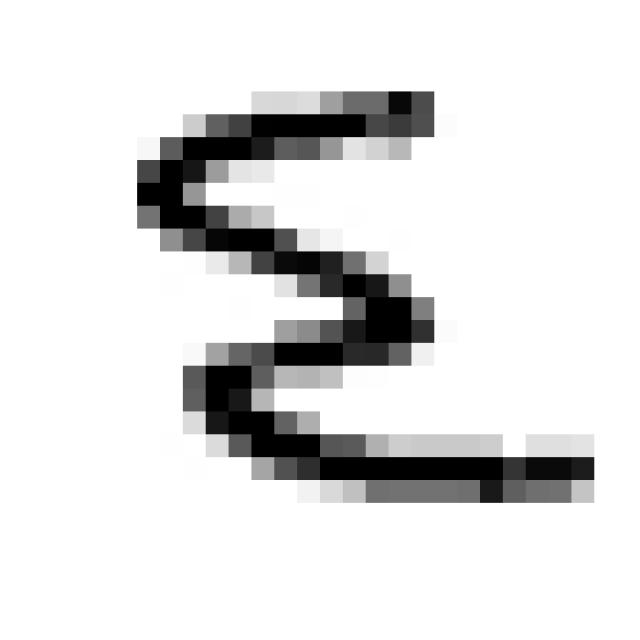4 -four-: (114, 71, 618, 529)
